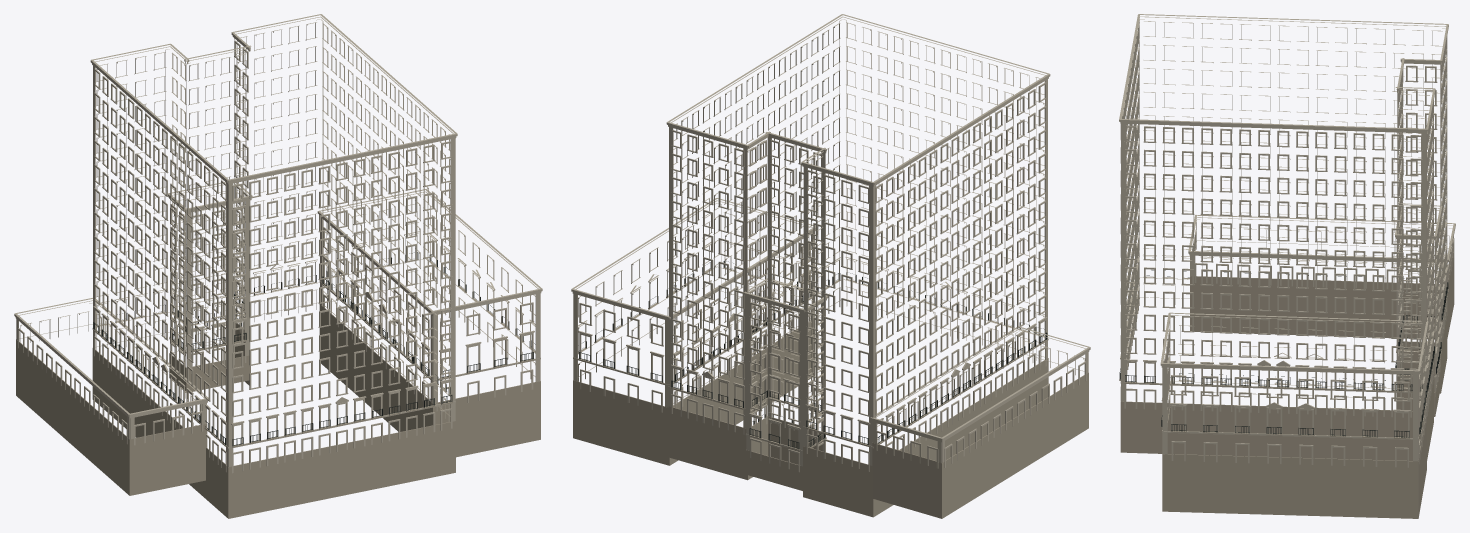
3 views of the same model, side by side, from view 1: azimuth 30°, elevation 25°; view 2: azimuth 150°, elevation 25°; view 3: azimuth 270°, elevation 25° (orthographic).
Visible parts, largest first — view 1: detail; view 2: detail; view 3: detail.
Part boxes in pixels (x1,y1,x2,y2): detail: [14, 14, 542, 518]; detail: [571, 14, 1090, 518]; detail: [1119, 14, 1455, 518].
Bounding box in the file's own units: 58.61 × 47.23 × 42.21.
